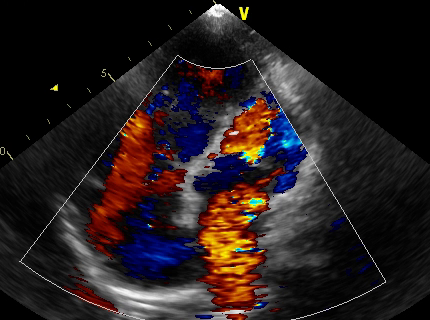TR: (130, 157, 189, 222)
